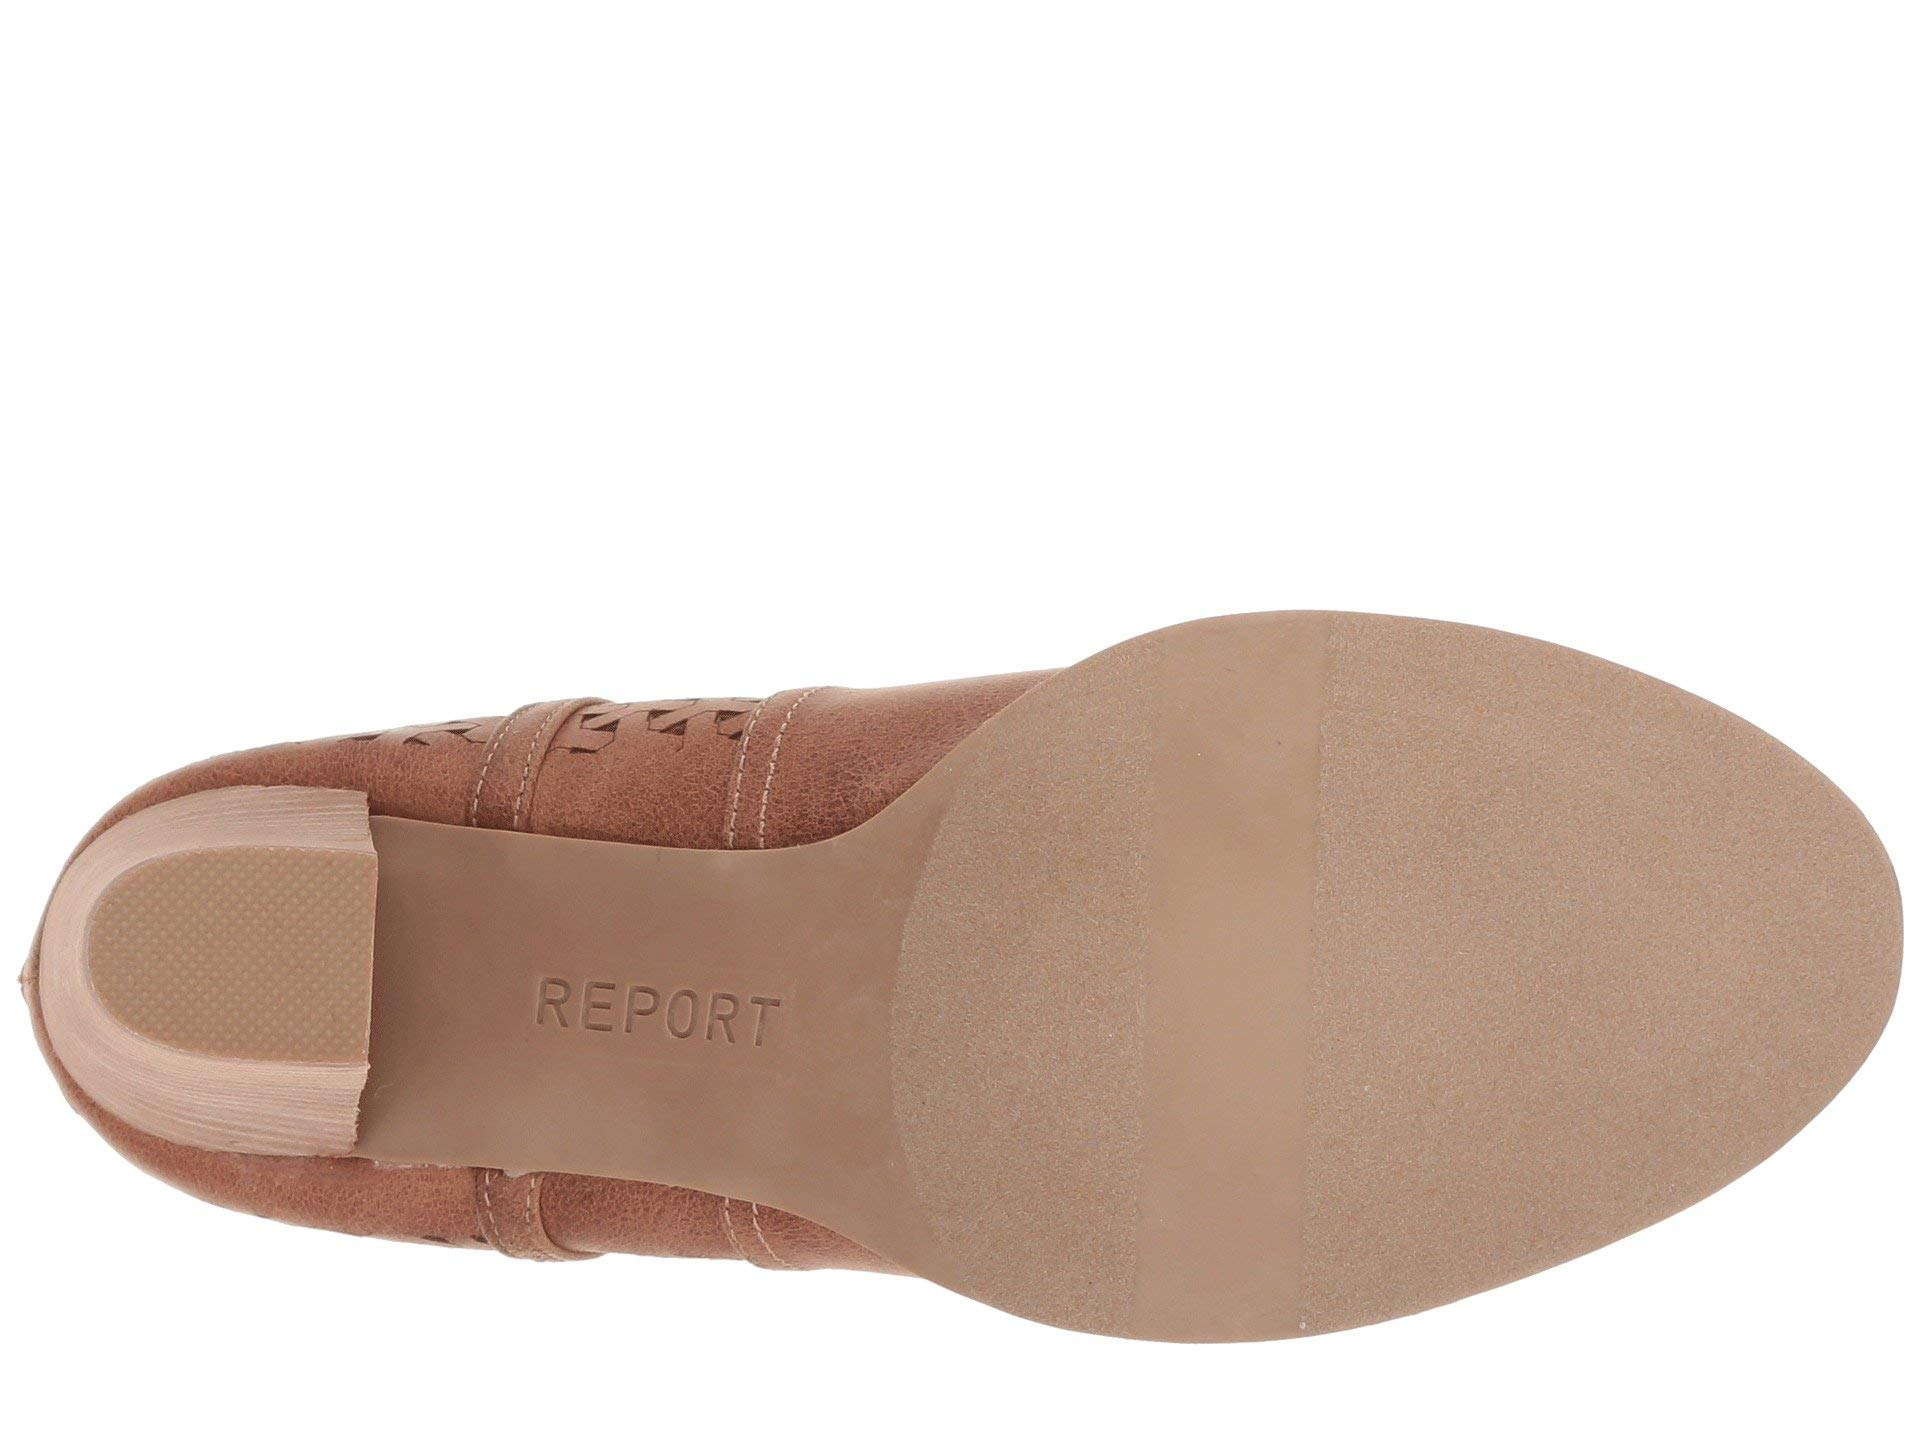quad: (1116, 604, 1335, 1351), (165, 889, 351, 1039)
